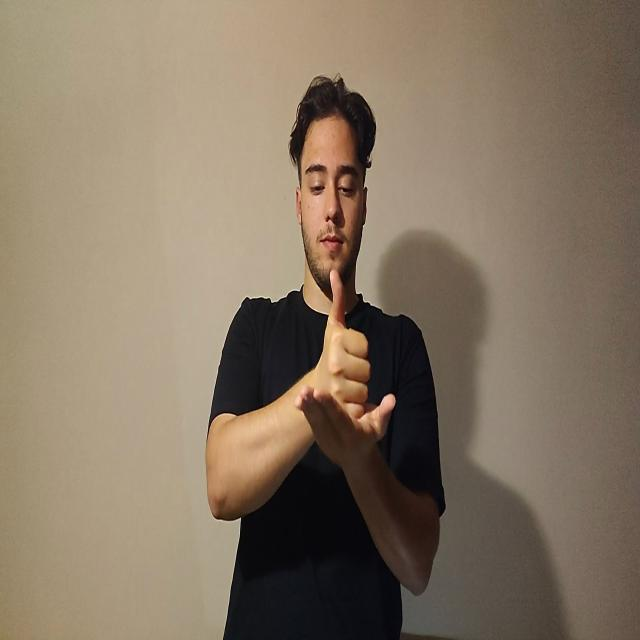help: (295, 268, 396, 460)
